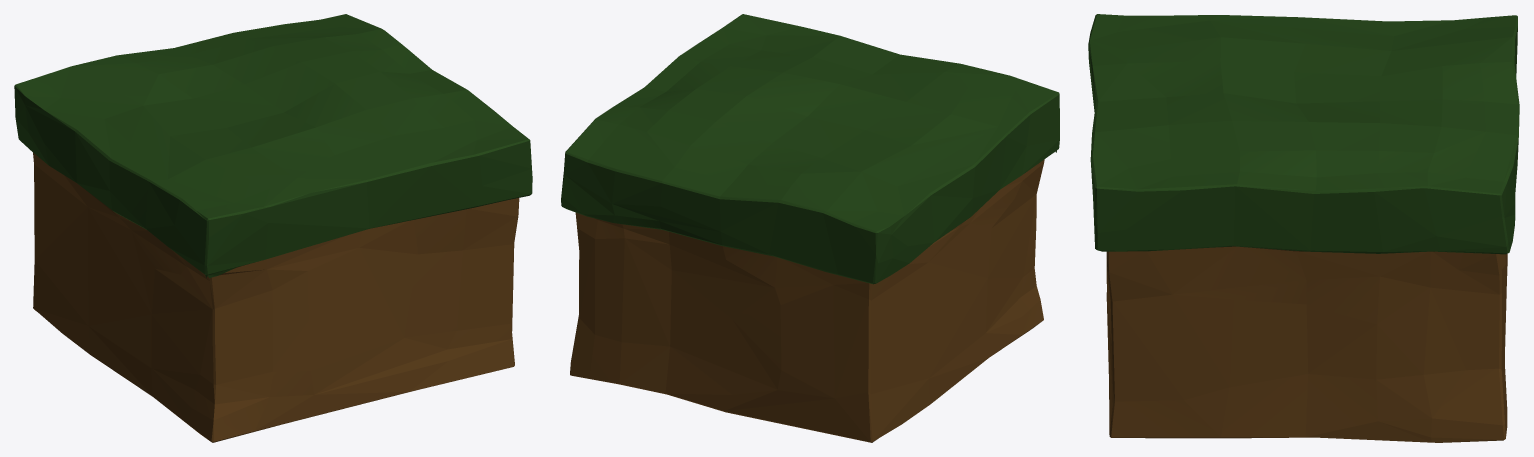
The model's file is tile_grass.gltf.
3 views of the same model, side by side, from view 1: azimuth 30°, elevation 25°; view 2: azimuth 150°, elevation 25°; view 3: azimuth 270°, elevation 25° (orthographic). The views are drawn at different scales.
Parts seen in each view (by area): view 1: hill.004; view 2: hill.004; view 3: hill.004.
Boxes of the visible parts, x1,y1,x2,y2 form: hill.004: (14,14,532,442); hill.004: (561,14,1059,442); hill.004: (1088,14,1519,442).
Size of the model in its own units: 1.07 by 0.7536 by 1.09.
